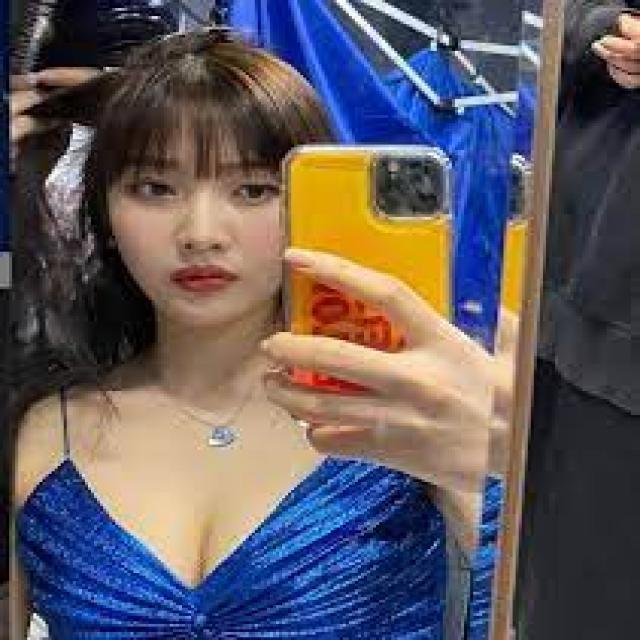Phone: (280, 143, 454, 414)
